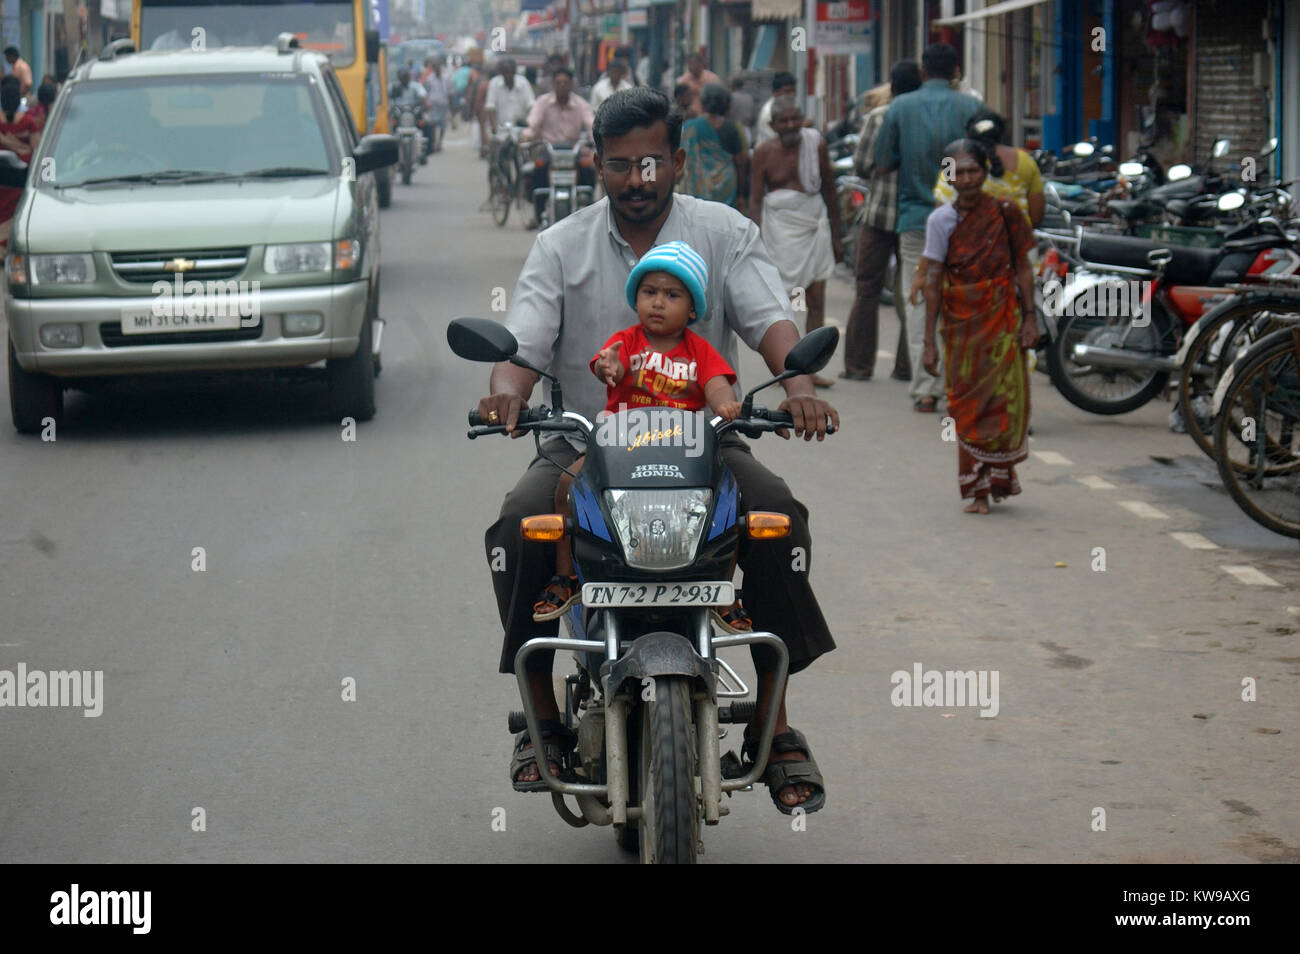motor: (446, 314, 845, 861)
no helmet: (593, 87, 684, 225), (624, 247, 701, 336)
number: (582, 580, 736, 605)
